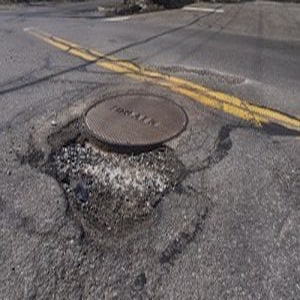pothole: (37, 123, 188, 227)
